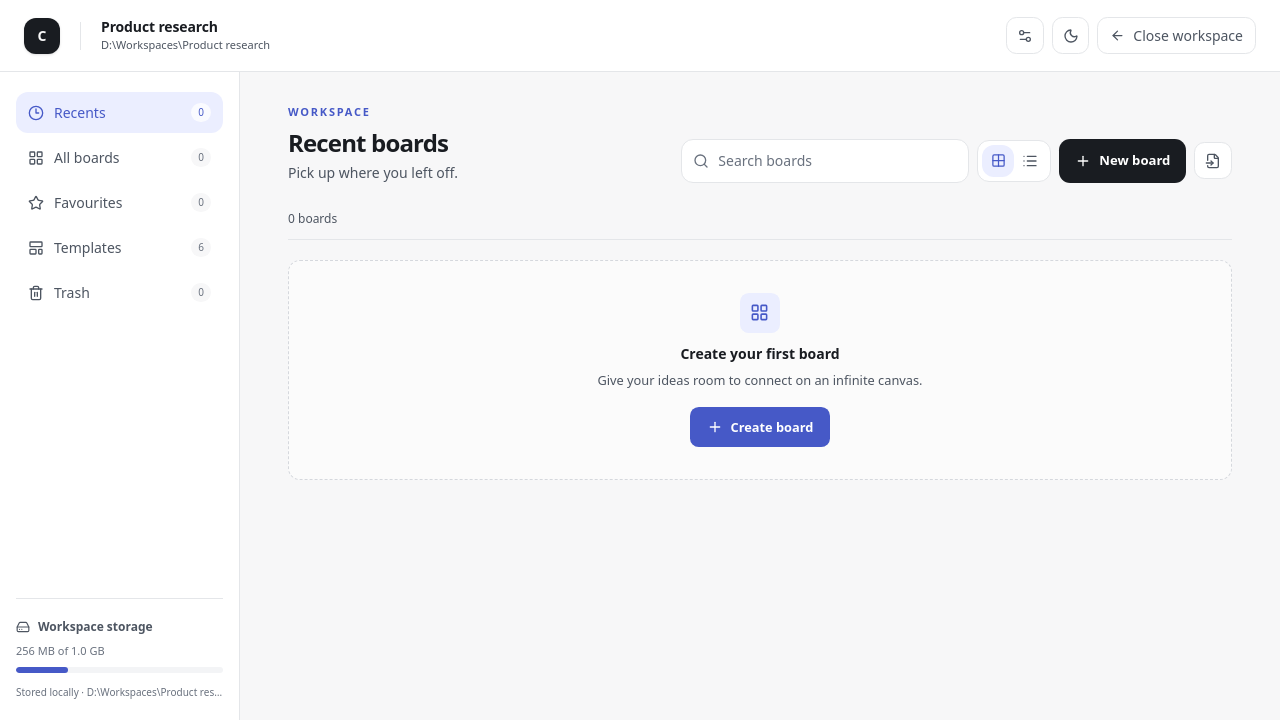
it: Dashboard › creates a trimmed board title from the empty state
Expected: the heading "Create your first board" is shown, top-left (680, 344), bottom-right (840, 362)
Click the button "Create board": click(760, 427) top-left (690, 407), bottom-right (830, 447)
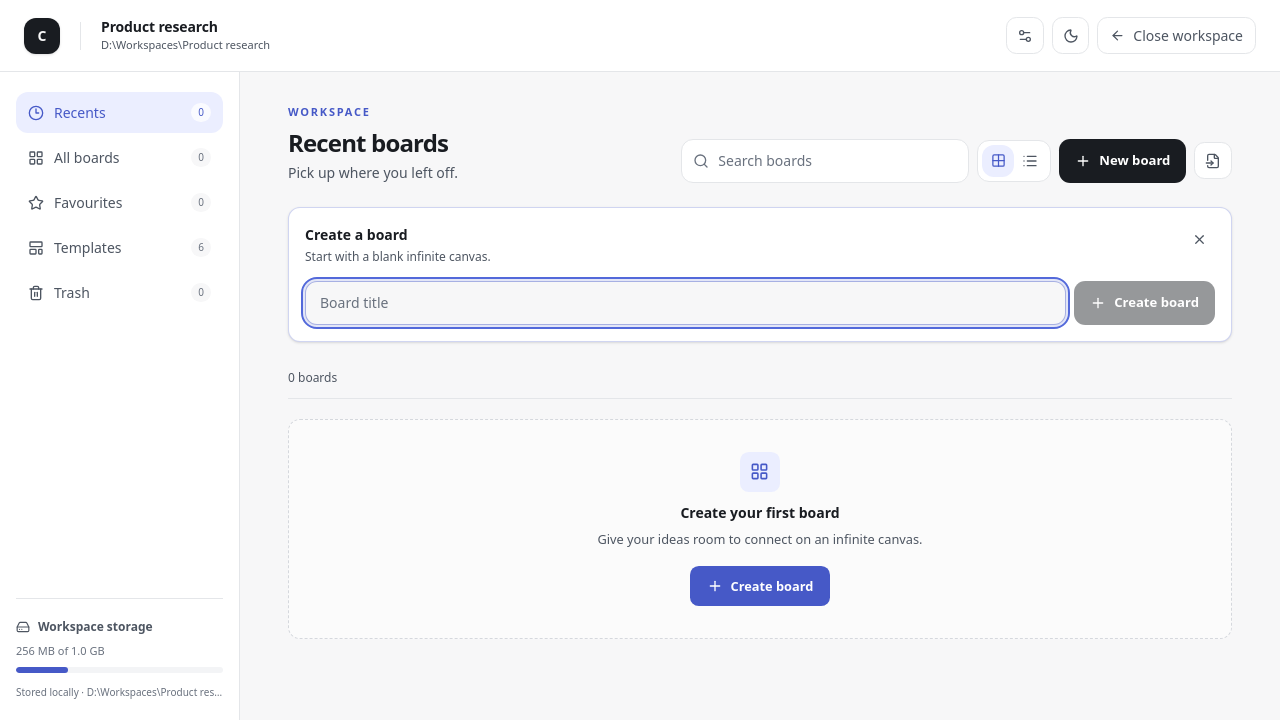
Now the 1st button "Create board" is disabled, box top-left (1074, 280), bottom-right (1215, 324)
In the field labelled "Create a board": (686, 302) top-left (305, 280), bottom-right (1066, 324), type "  Customer journey  "
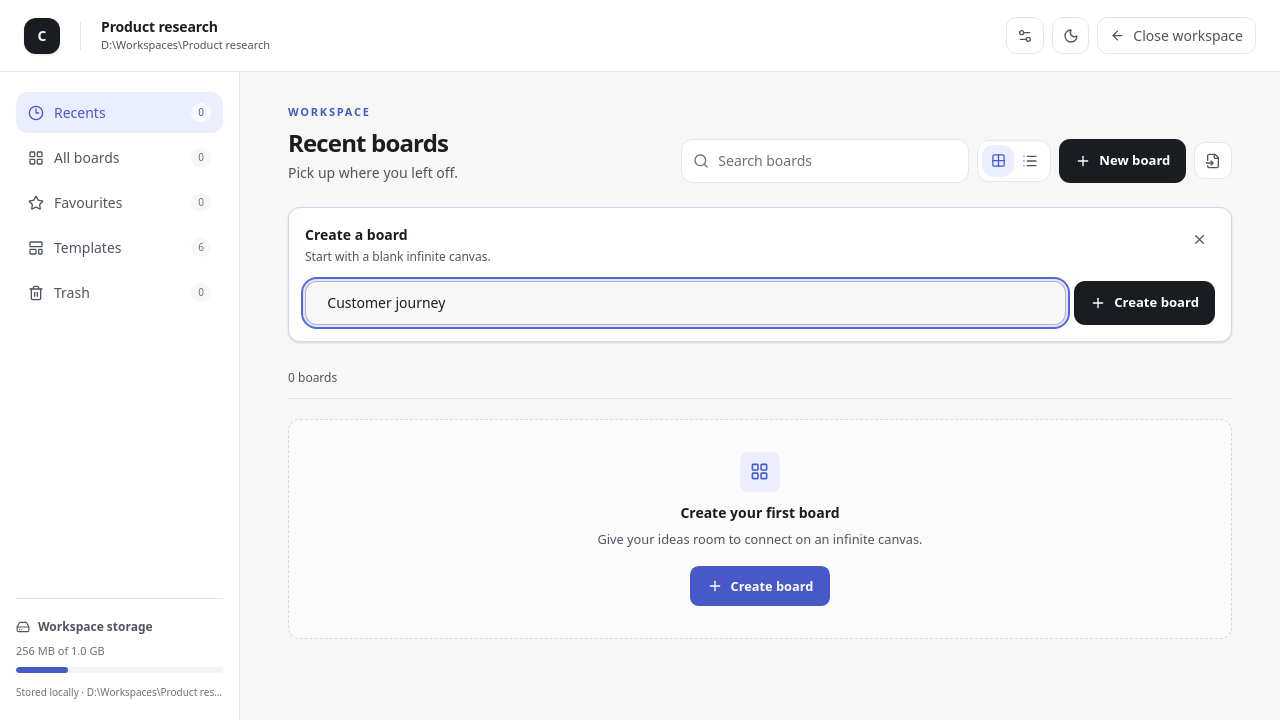
Click the 1st button "Create board": click(1145, 302) top-left (1074, 280), bottom-right (1215, 324)
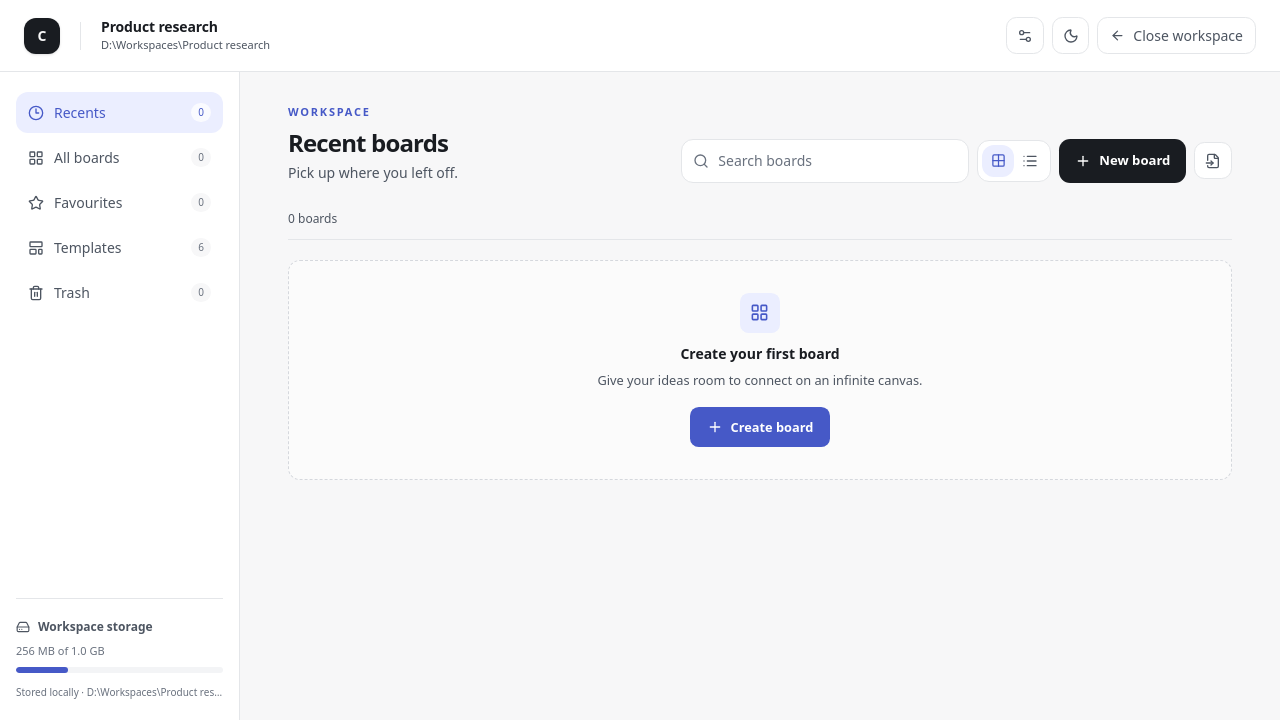
Now the label "Create a board" is gone
